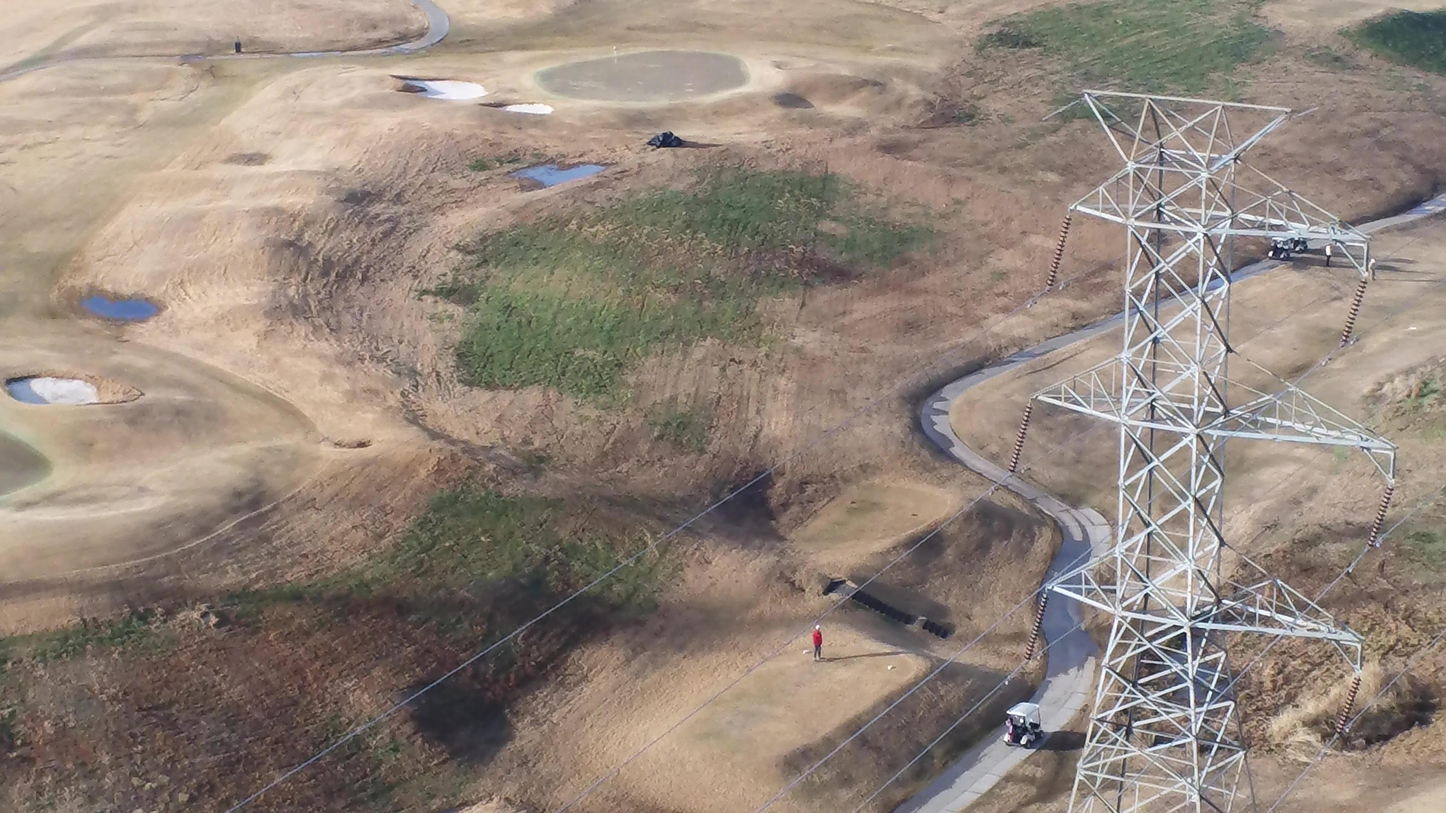power_tower: (985, 89, 1399, 813)
